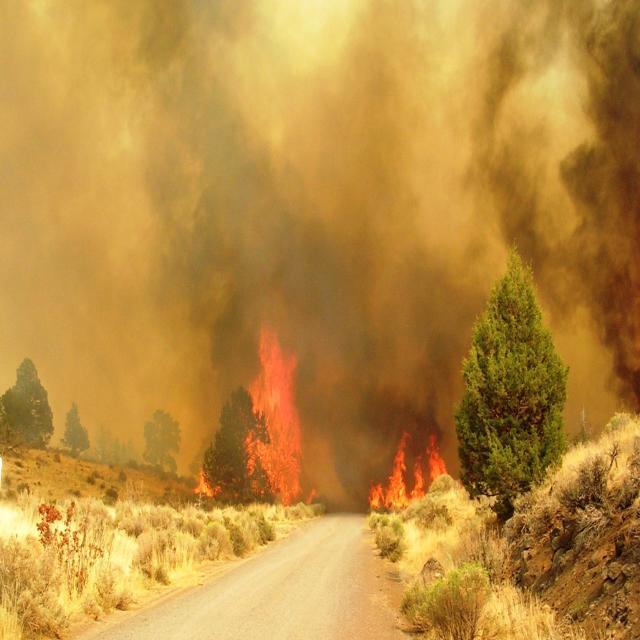Fire: (228, 332, 320, 528), (367, 432, 453, 523)
Smoke: (2, 0, 640, 460)
